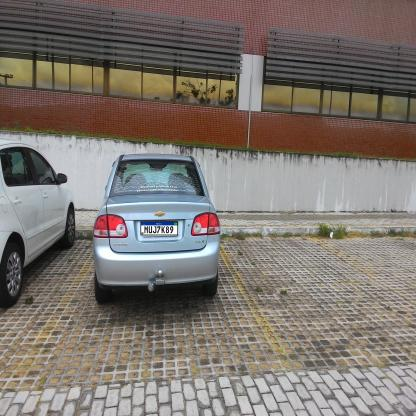PlacaM: (140, 221, 178, 236)
